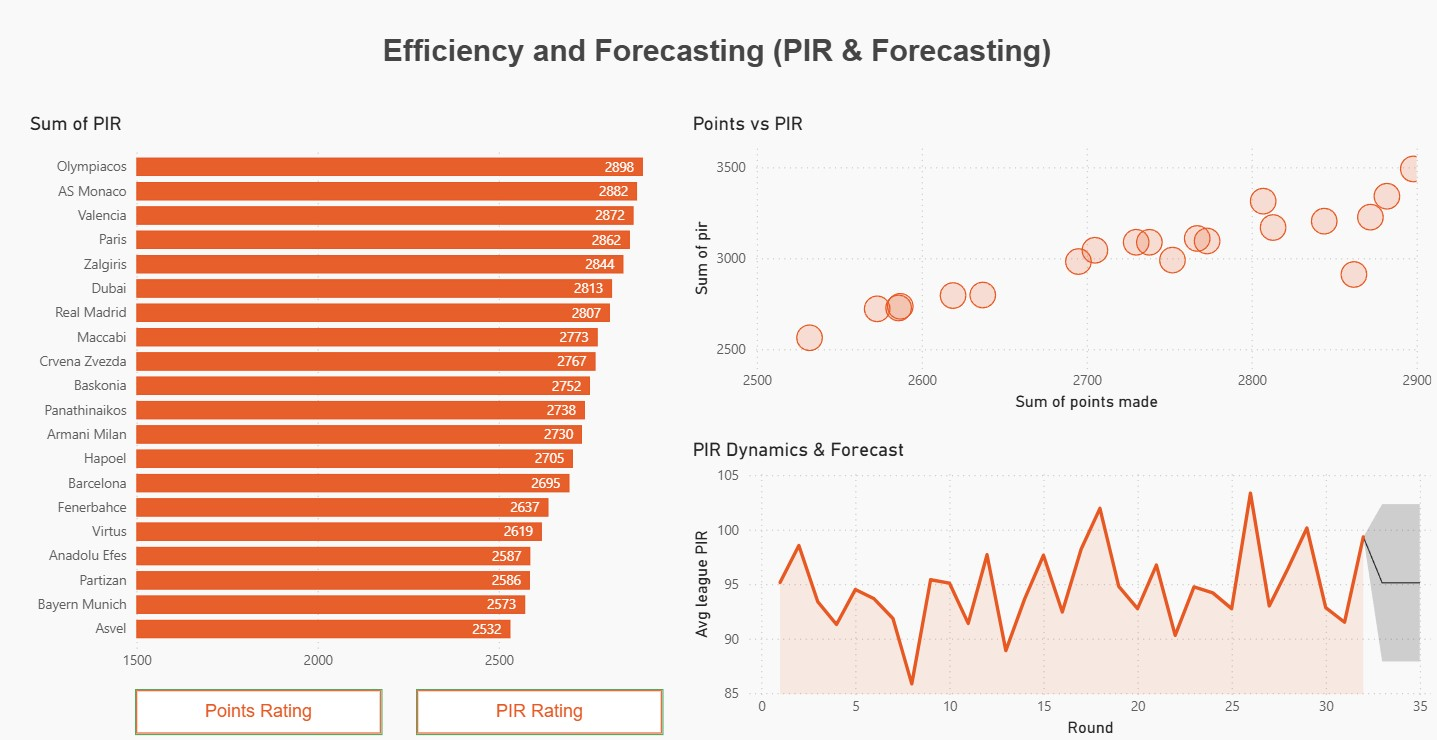

This screenshot's page, from the dashboard's own definition file:
{"tool":"powerbi","page":{"name":"Efficiency and Forecasting","canvas":[1280,720],"ordinal":3},"visuals":[{"type":"scatterChart","title":"Points vs PIR","fields":{"X":["Sum(Matches_Stat.points made)"],"Y":["Sum(Matches_Stat.pir)"],"Category":["Matches_Stat.Slicer_Team"]},"box":[613.5,160.8,666.5,270],"z":0},{"type":"lineChart","title":"PIR Dynamics & Forecast","fields":{"Category":["Matches.Round_ID"],"Y":["Avg(Matches_Stat.pir)"]},"box":[613.6,450.3,666.4,269.8],"z":1000},{"type":"shape","box":[0,0,1280,60],"z":3000},{"type":"image","box":[24.1,12.5,134.5,34],"z":4000},{"type":"textbox","box":[0,89.6,1280,41.5],"z":5000},{"type":"clusteredBarChart","title":"Sum of PIR","fields":{"Category":["Matches_Stat.Slicer_Team"],"Y":["Sum(Matches_Stat.points made)"]},"box":[24,160.5,568.1,505.5],"z":6000},{"type":"actionButton","title":"Points Rating Btn","box":[123,673.4,219.6,40.6],"z":7000},{"type":"actionButton","title":"PIR Rating Btn","box":[372.2,673.4,219.6,40.6],"z":8000}]}

Visuals, with their boxes on the page's 1280x720 design canvas (x1, y1, x2, y2). These are canvas units, not pixel positions in the 1437x740 screenshot, which may show the page scaled, cropped or inside an application window:
"Points vs PIR" scatterChart: [614,161,1280,431]
"PIR Dynamics & Forecast" lineChart: [614,450,1280,720]
shape: [0,0,1280,60]
image: [24,12,159,46]
textbox: [0,90,1280,131]
"Sum of PIR" clusteredBarChart: [24,160,592,666]
"Points Rating Btn" actionButton: [123,673,343,714]
"PIR Rating Btn" actionButton: [372,673,592,714]
